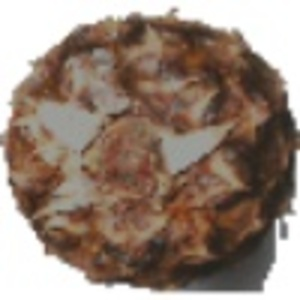abacaxi: (2, 8, 292, 276)
